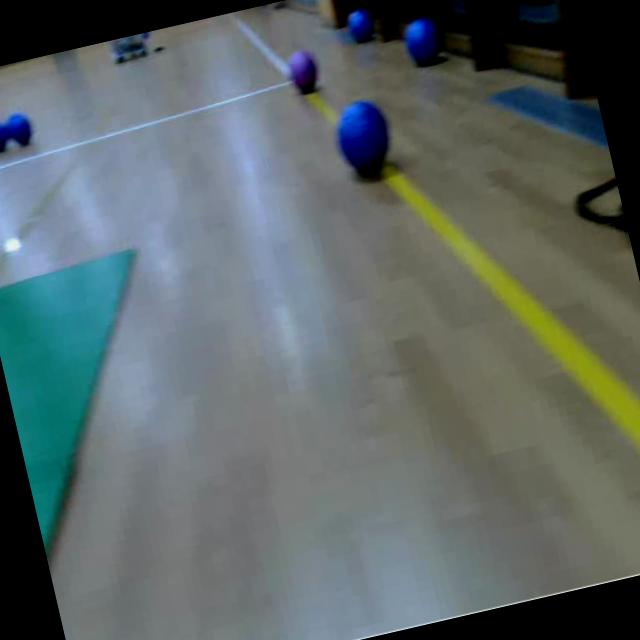blue_ball: (331, 93, 398, 180), (400, 12, 445, 66), (342, 4, 378, 45), (3, 108, 36, 148), (0, 115, 9, 153)
purple_ball: (282, 44, 326, 98)
